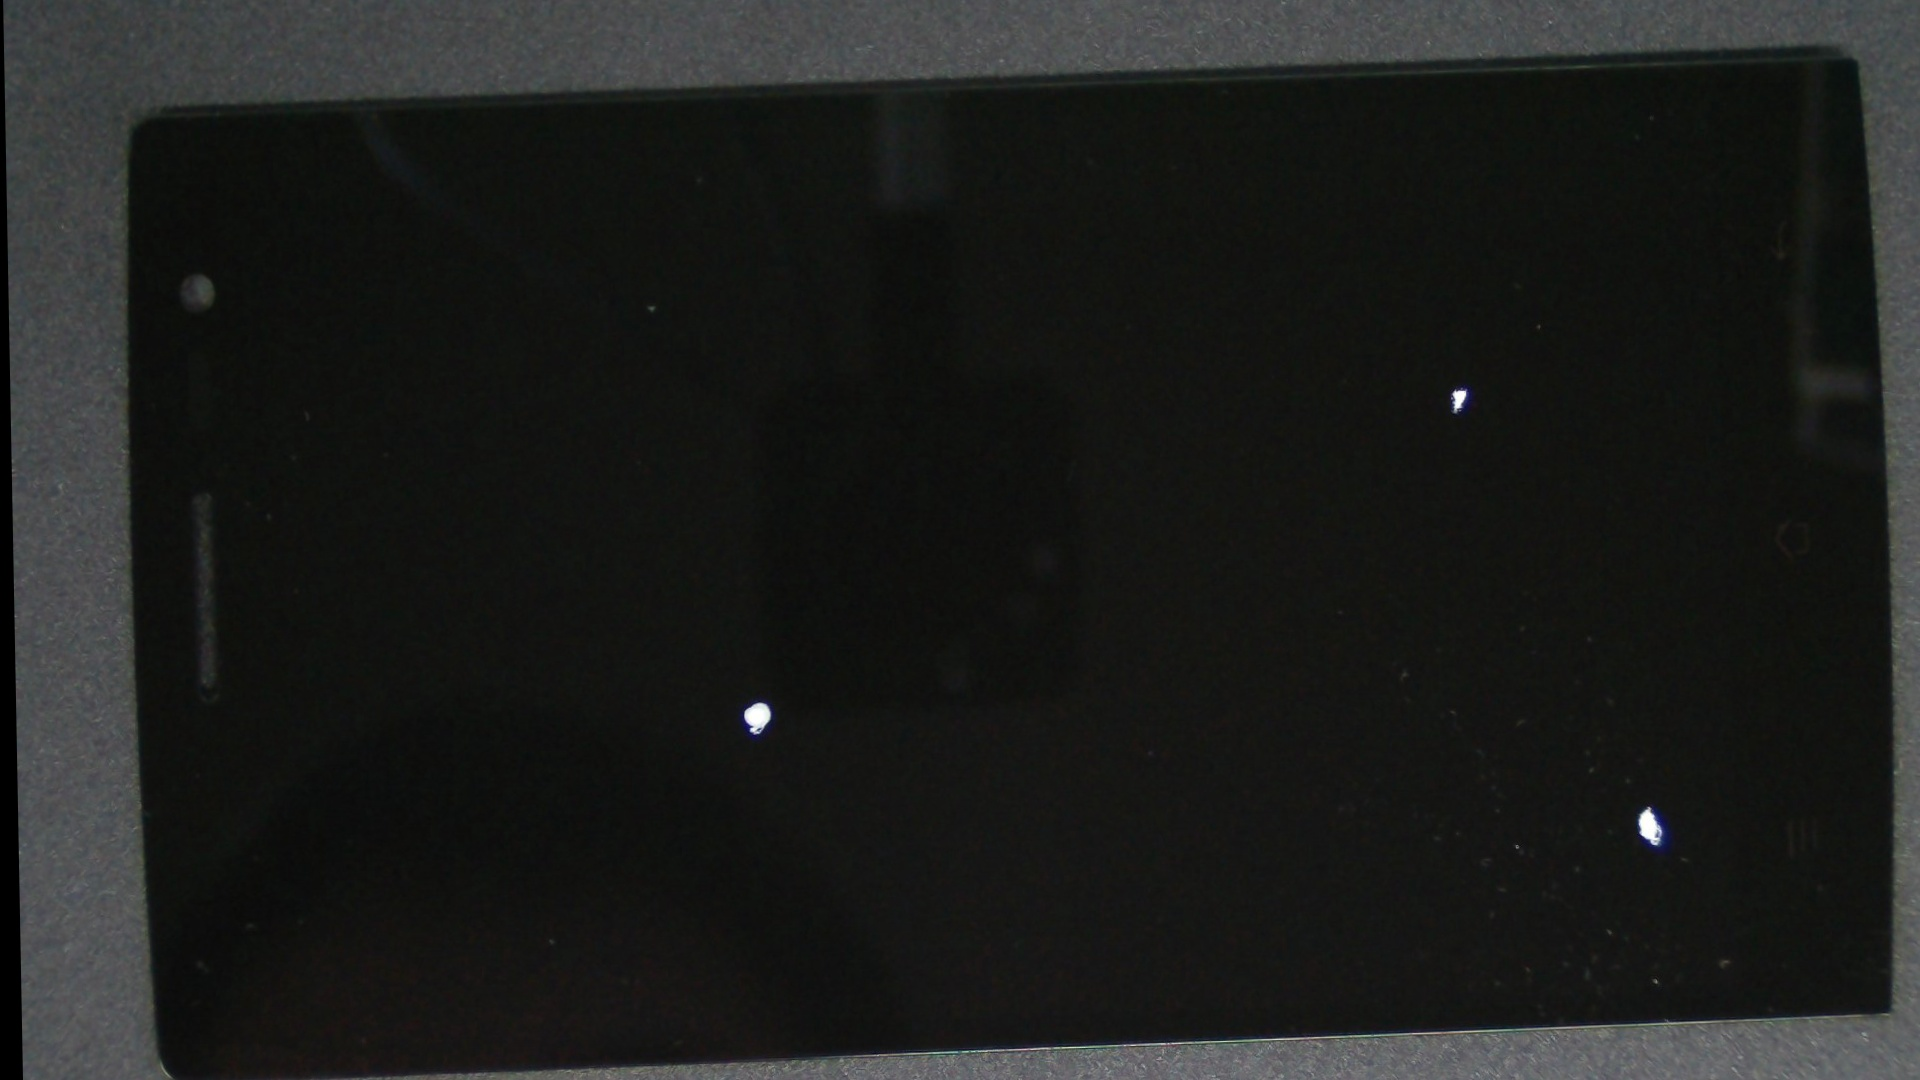oil: (827, 367, 1920, 1080), (382, 322, 1138, 1079), (732, 157, 1920, 621)
